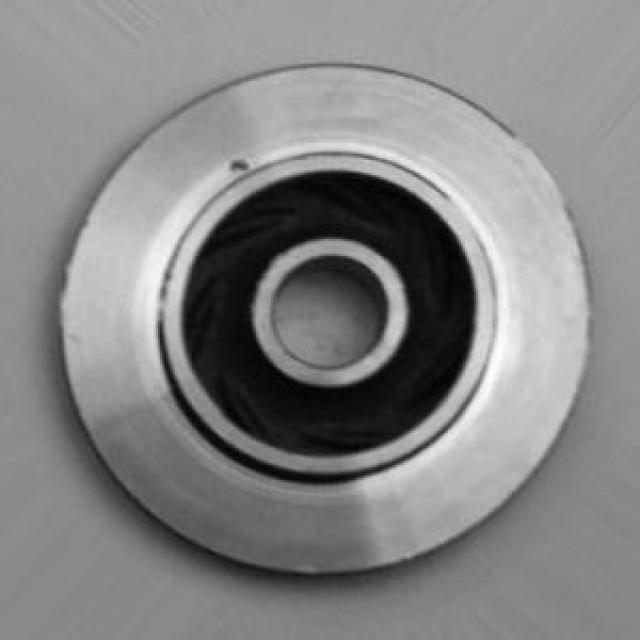Defect: (225, 151, 265, 177)
